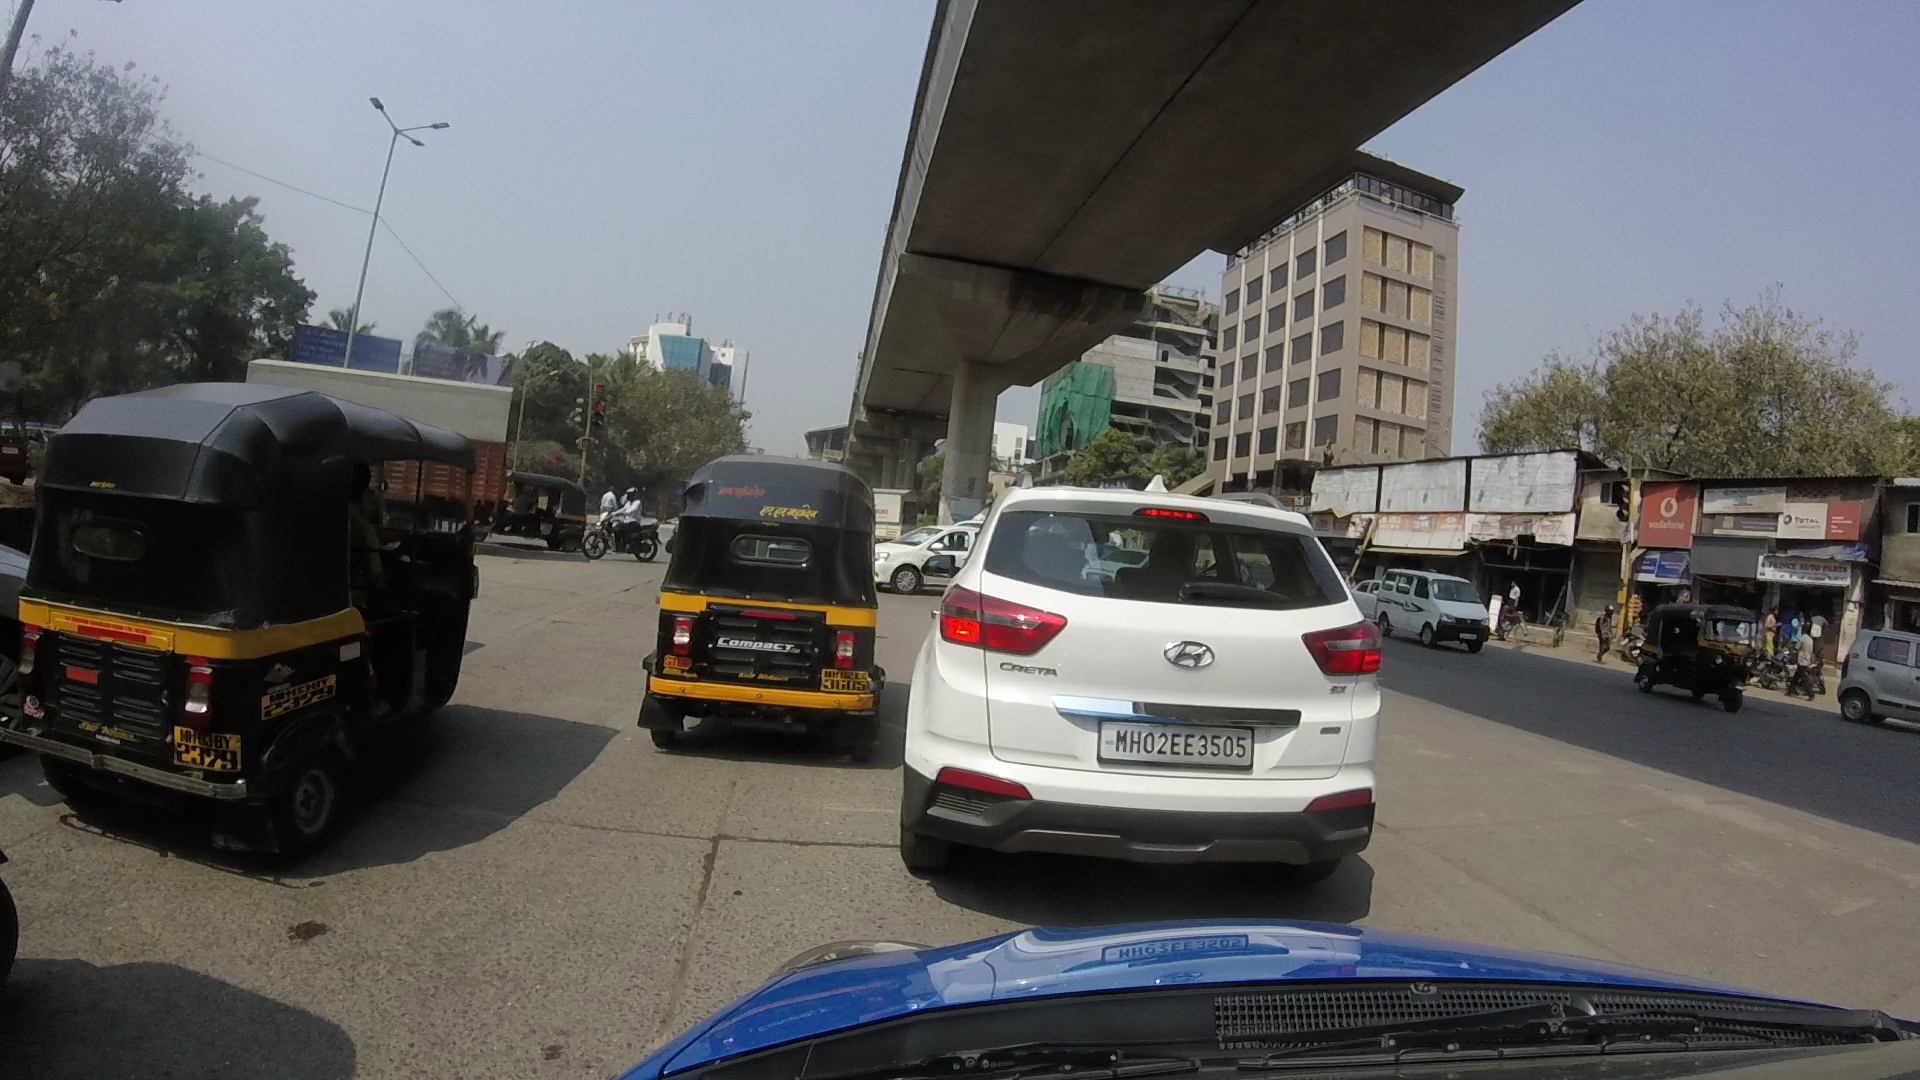bike/scooter: (588, 480, 663, 556)
car: (889, 460, 1410, 876), (1377, 558, 1494, 665), (1837, 620, 1920, 750)
rickshaw: (21, 348, 512, 851), (615, 415, 913, 754), (1621, 591, 1766, 713), (502, 462, 597, 558)
truck: (240, 339, 524, 508)
